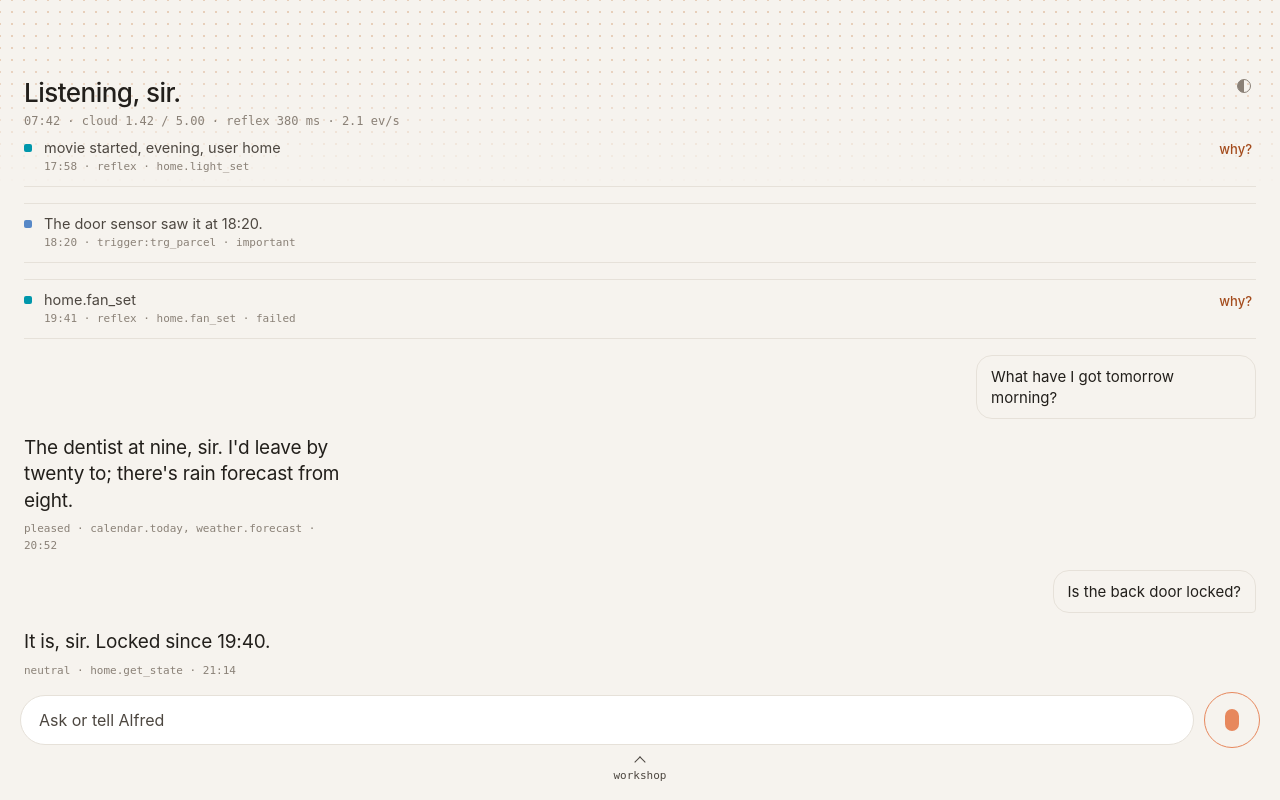
Test: App › opens the Room's own Held-back sheet from System › Quiet
This screenshot has width=1280, height=800.
(page scrolled)
Expected: the text "What have I got tomorrow morning?" is shown, [976, 355, 1256, 419]
What coordinates should you click on to do the following:
click the button with aria-label "Open the Workshop"
I would click on:
 (640, 778)
Its box is [0, 756, 1279, 799].
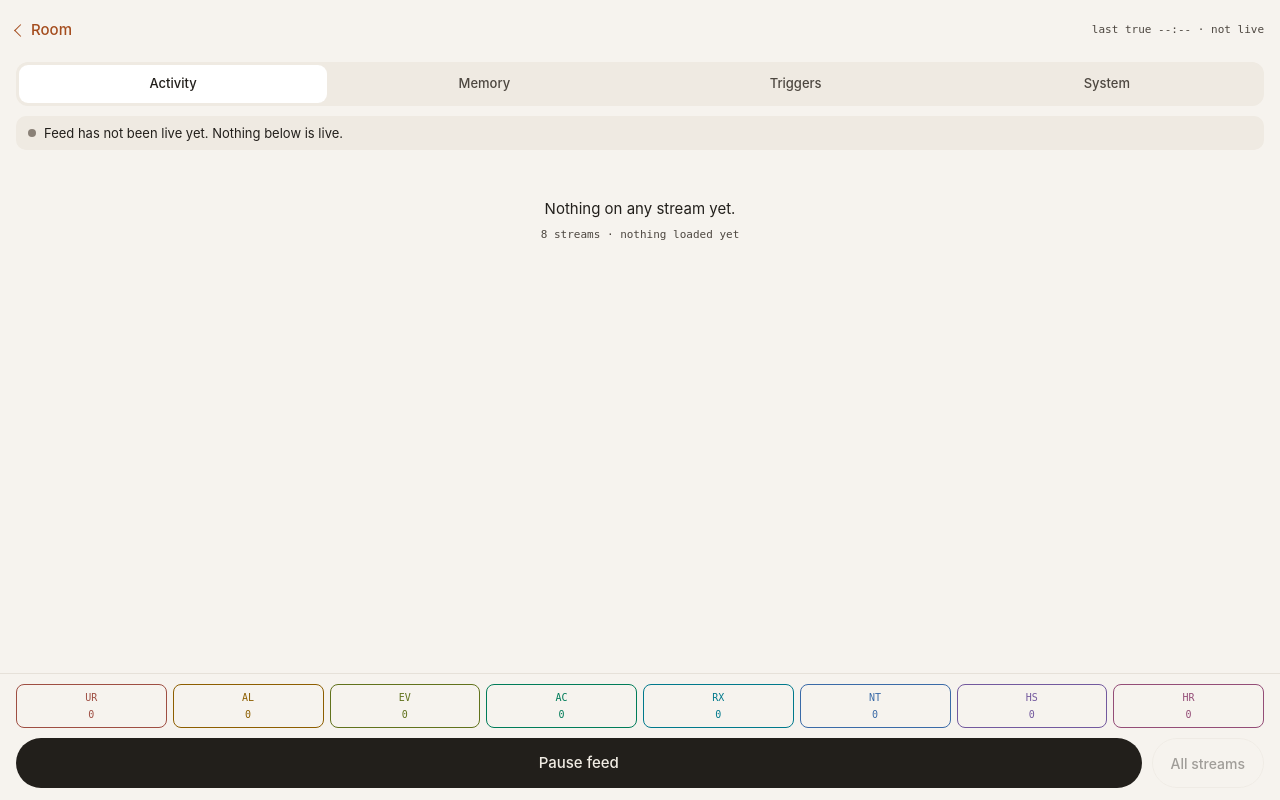
What coordinates should you click on to do the following:
click the tab "System"
I would click on:
 (1107, 84)
Its box is [953, 65, 1261, 103].
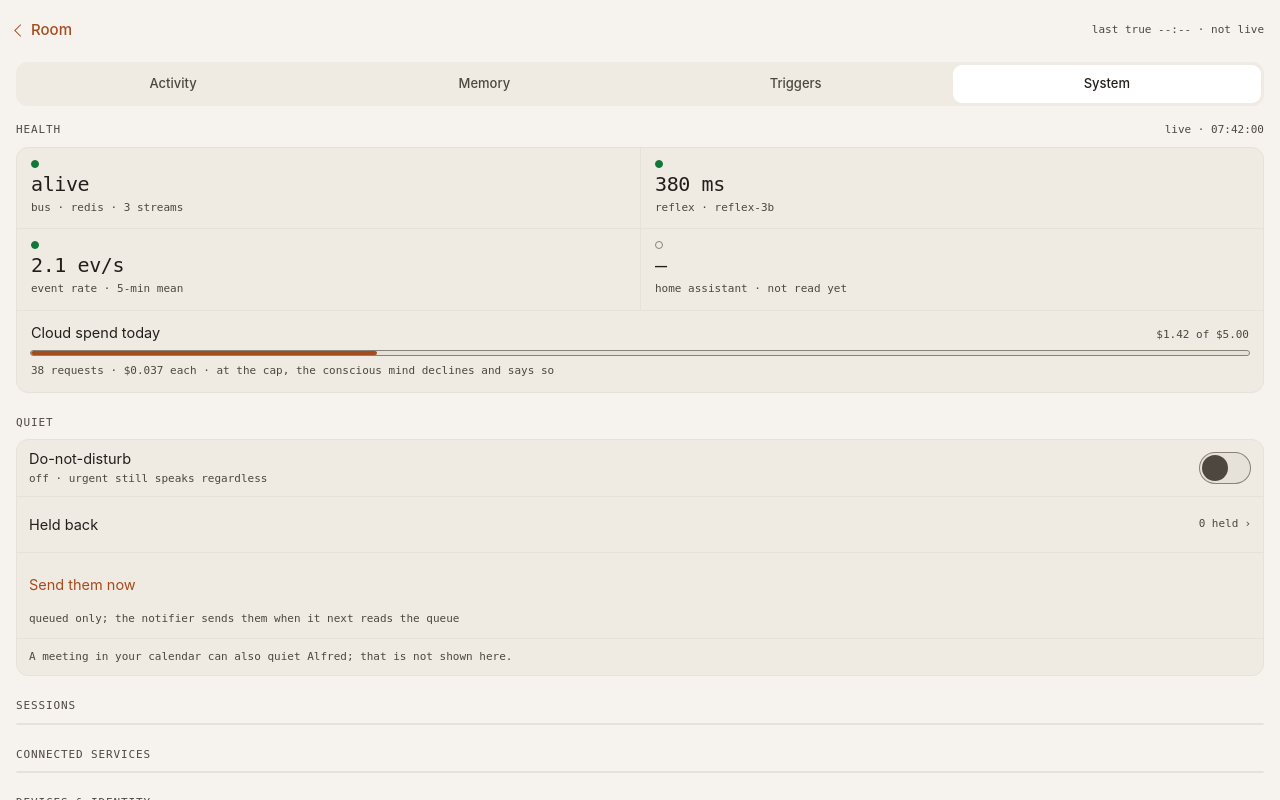
What coordinates should you click on to do the following:
click the button "Held back 0 held ›"
I would click on:
 (64, 524)
Its box is [17, 496, 1263, 552].
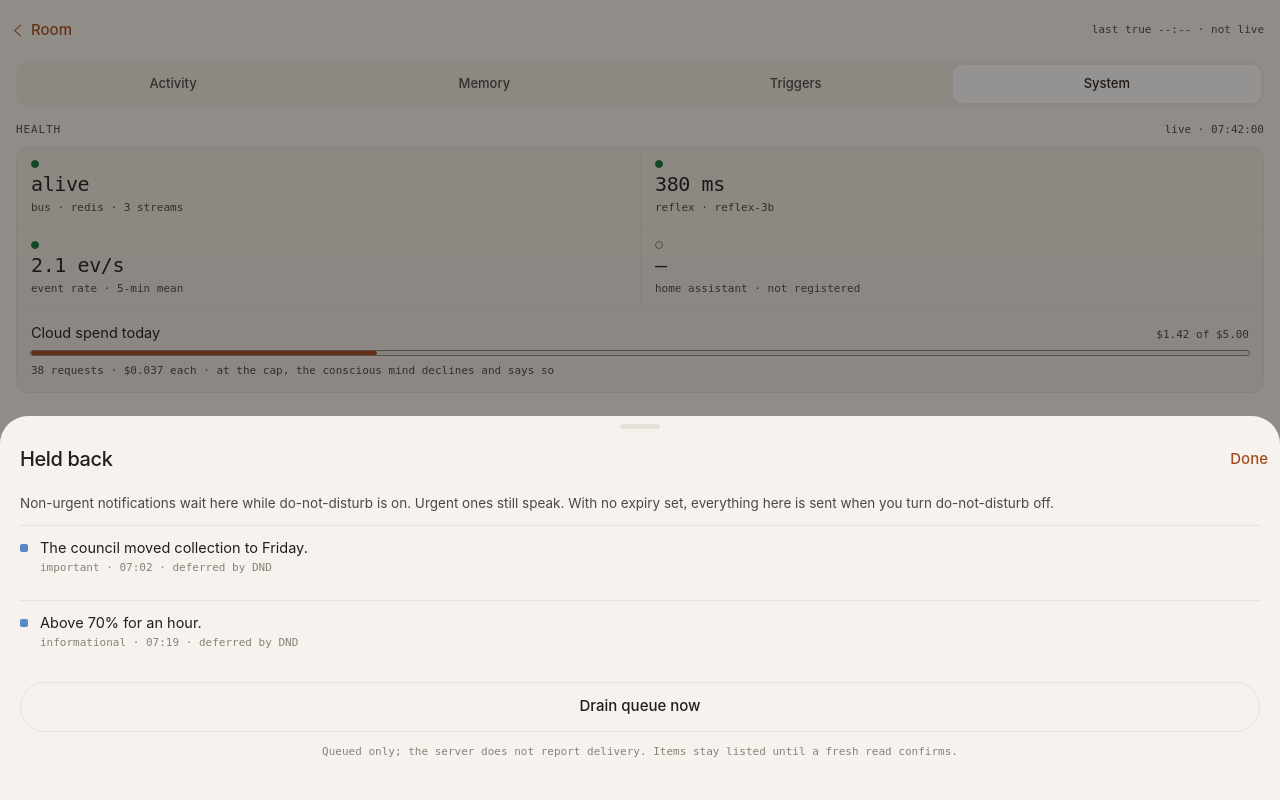
Now the text "The council moved collection to Friday." is shown, box [40, 539, 308, 556]
